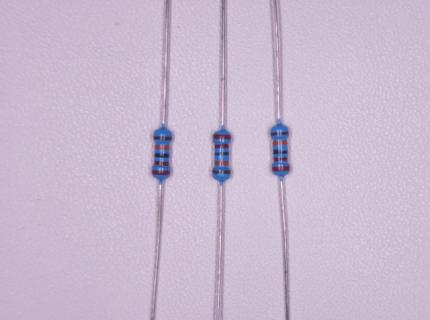Black band: (274, 149, 288, 154), (155, 153, 169, 157), (215, 152, 229, 156)
Brown band: (213, 170, 231, 174), (271, 132, 289, 136), (154, 136, 171, 140)
Orange band: (273, 141, 288, 146), (215, 161, 229, 166), (155, 145, 170, 149)
Red band: (273, 166, 290, 172), (152, 170, 170, 175), (213, 135, 232, 139), (154, 161, 169, 166), (274, 157, 288, 162), (215, 145, 228, 148)
